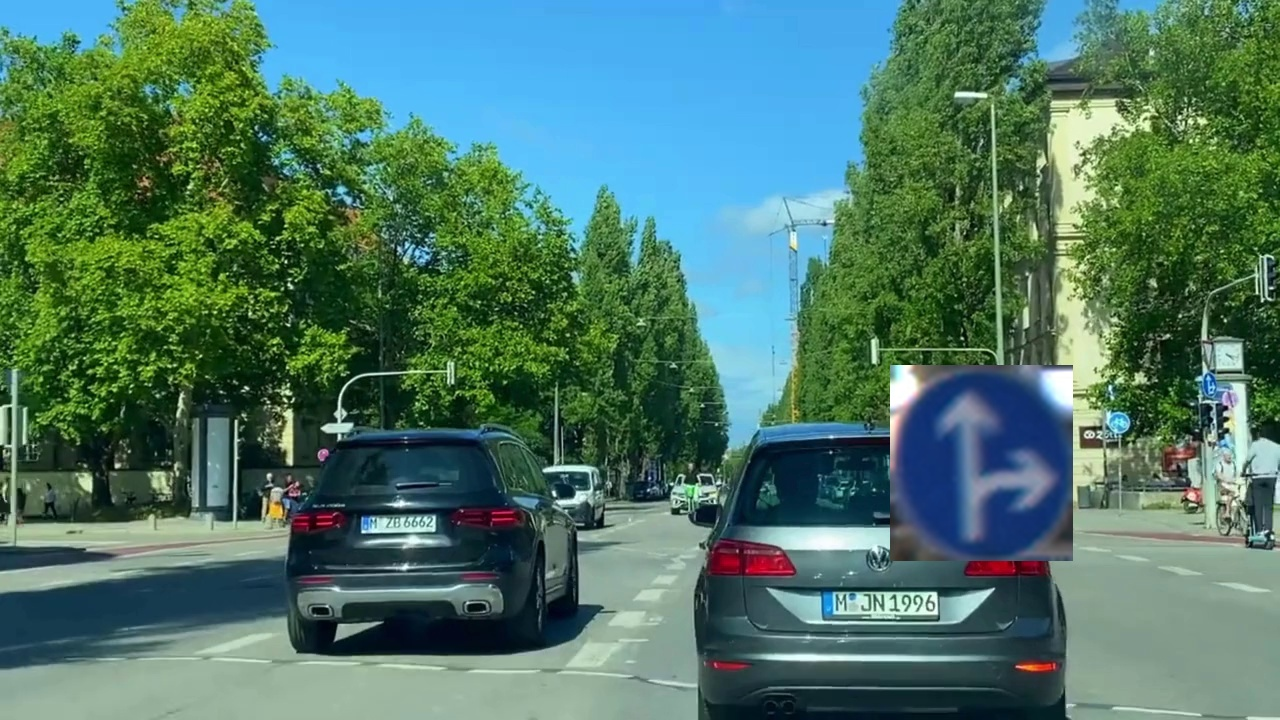Straight/right: (890, 365, 1073, 561)
